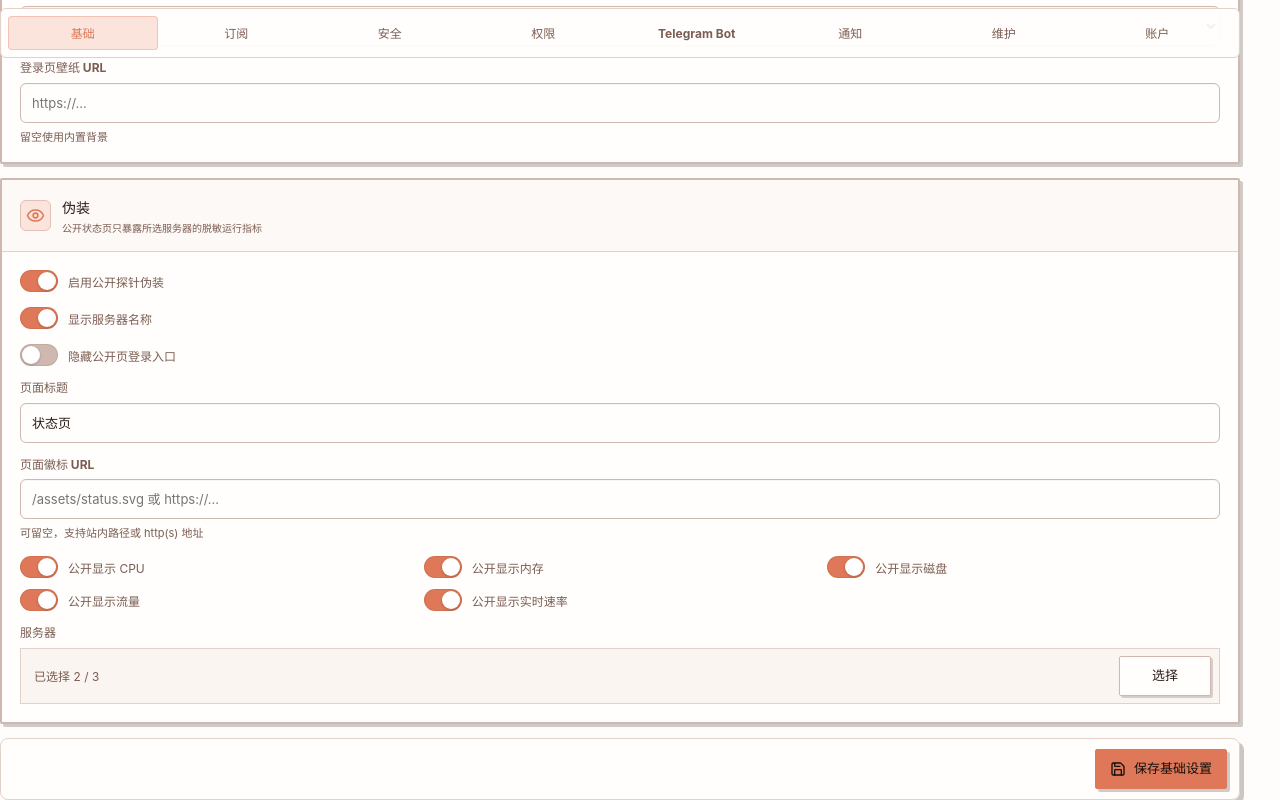
Test: settings workbench › keeps public probe server selection compact until the picker is confirmed
The image size is (1280, 800).
(page scrolled)
Expected: the heading "伪装" is shown, [62,199,90,216]
Expected: the text "已选择 2 / 3" is shown, [34,667,100,684]
Step 1. Click the button "选择" → (1165, 676), box [1119,656,1211,696]
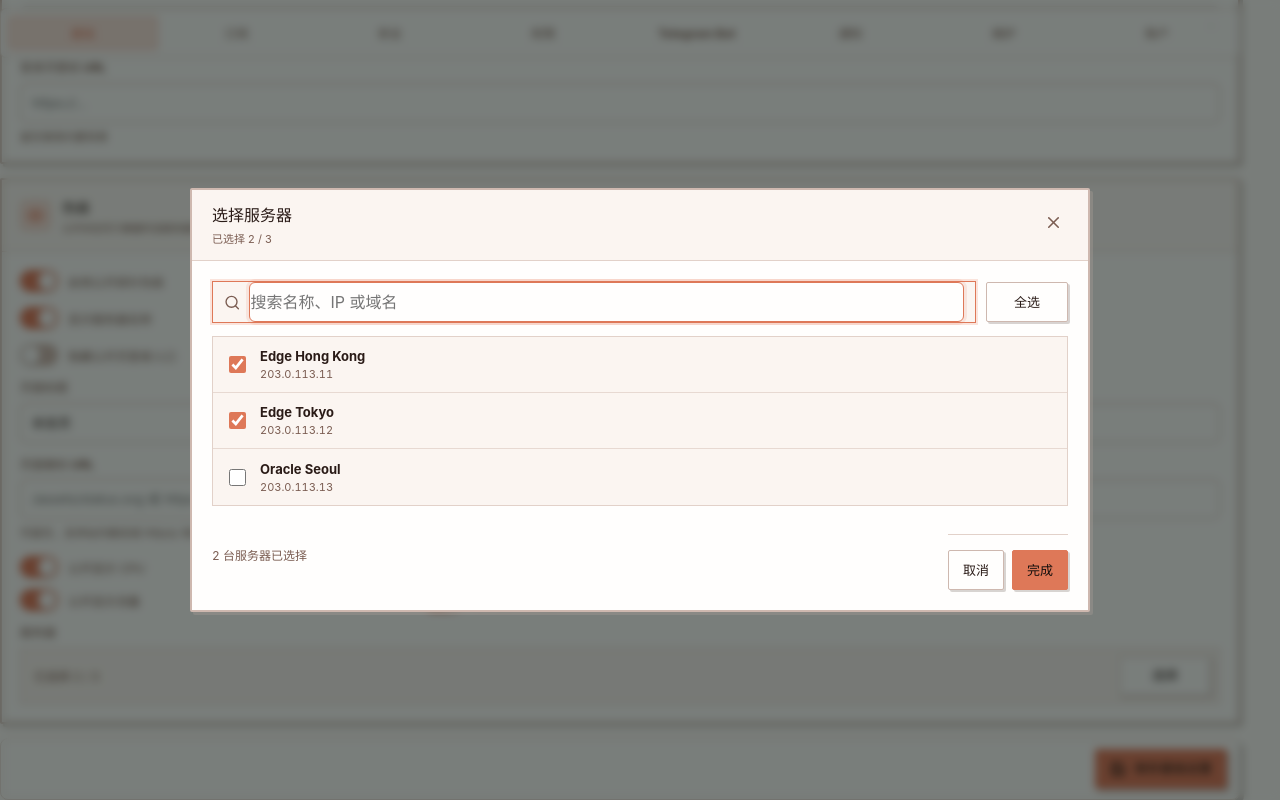
Expected: the checkbox labelled "Oracle Seoul 203.0.113.13" is not checked
Step 2. Click the checkbox labelled "Oracle Seoul 203.0.113.13" → (238, 477), box [229,469,246,486]
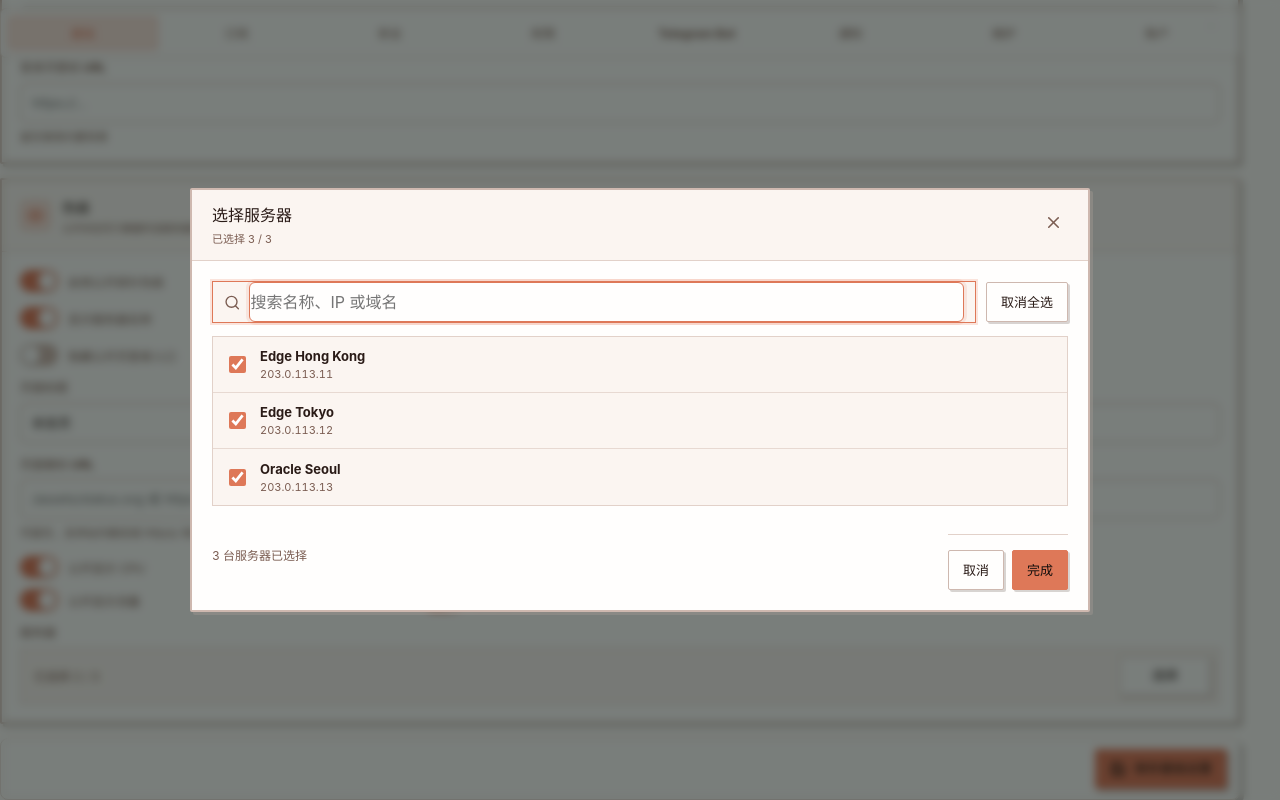
Step 3. Click the button "取消" → (976, 570), box [948,550,1004,590]
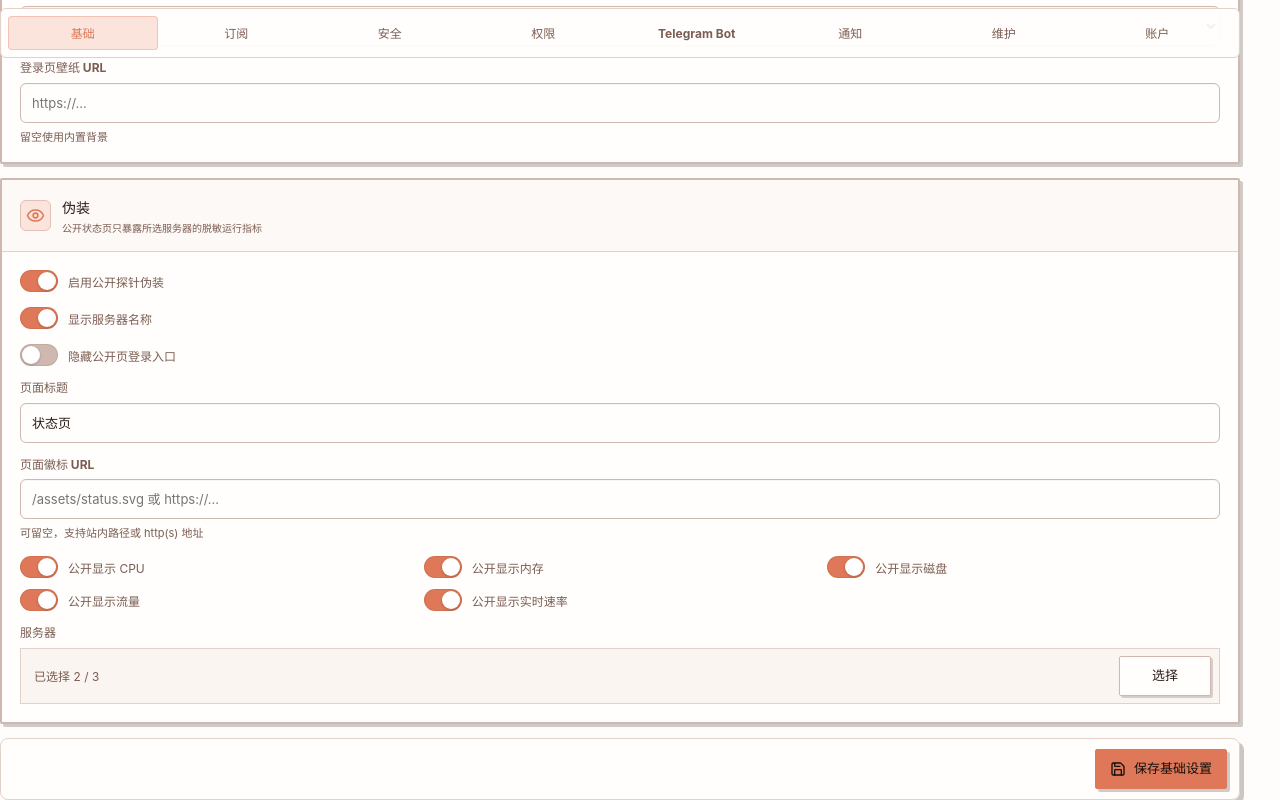
Expected: the text "已选择 2 / 3" is shown, [34,667,100,684]
Step 4. Click the button "选择" → (1165, 676), box [1119,656,1211,696]
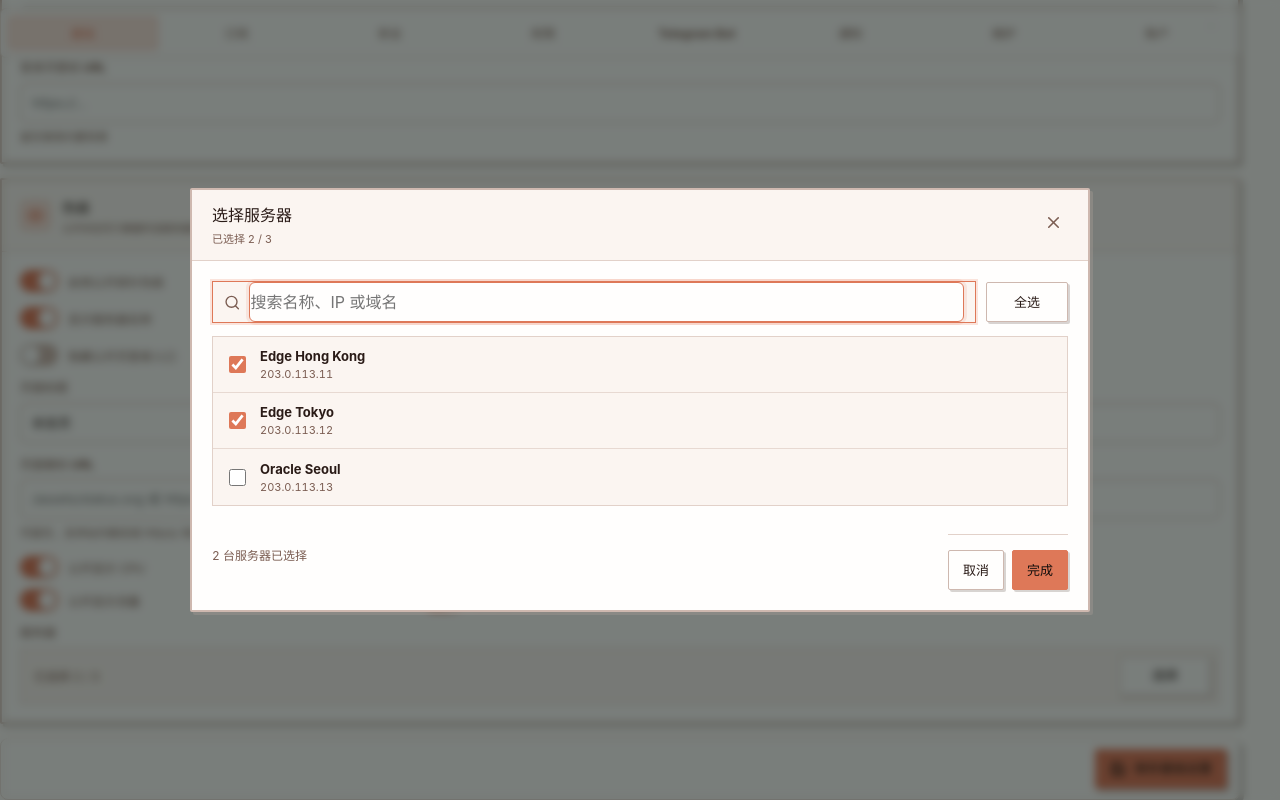
Step 5. Click the checkbox labelled "Oracle Seoul 203.0.113.13" → (238, 477), box [229,469,246,486]
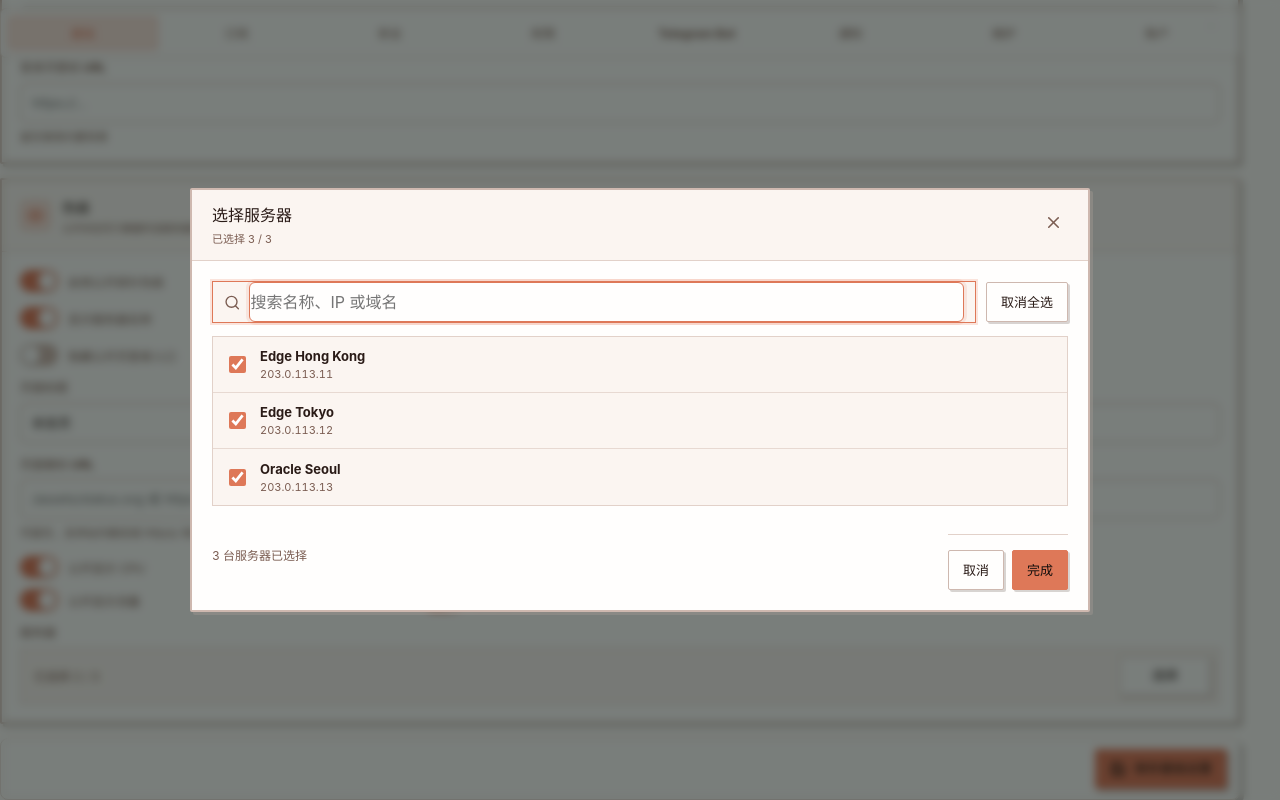
Step 6. Click the button "完成" → (1040, 570), box [1012,550,1068,590]
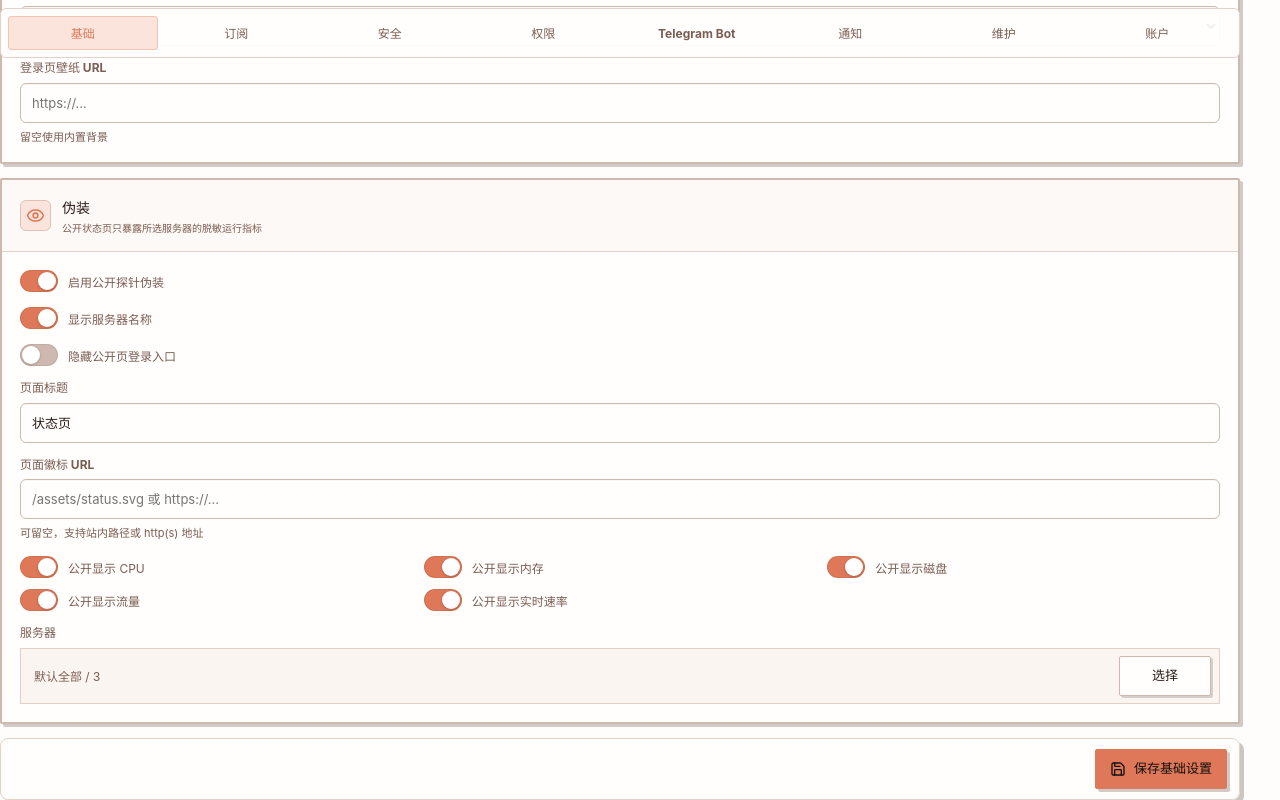
Expected: the text "默认全部 / 3" is shown, [34,667,101,684]
